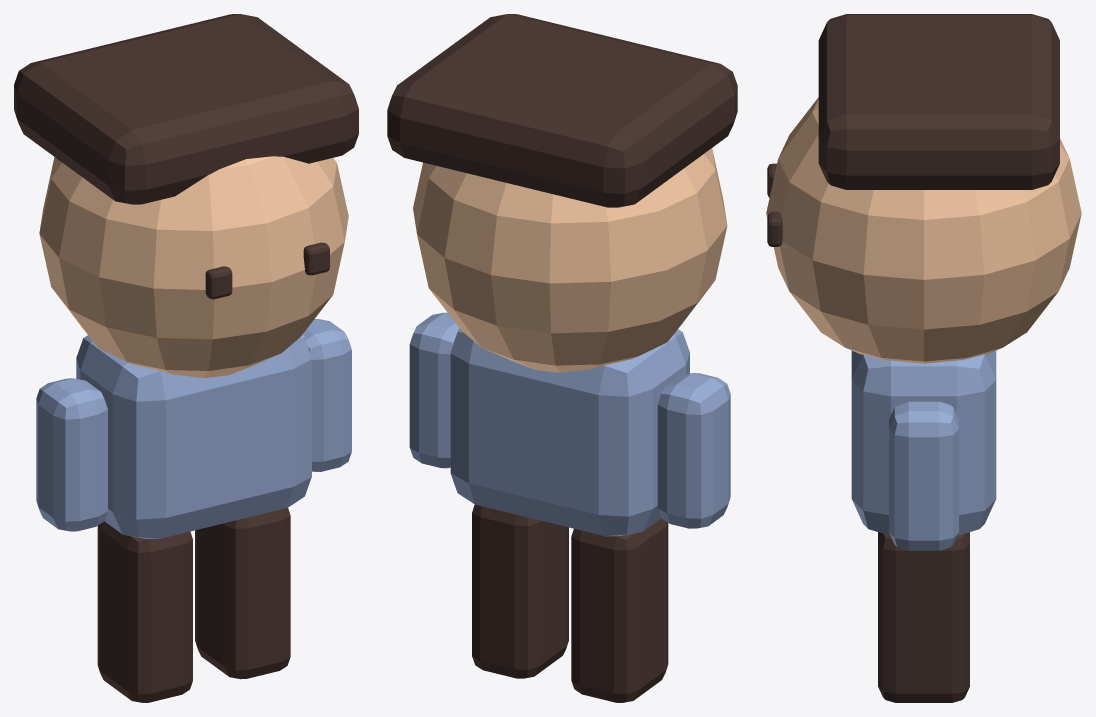
File: kar_warga_bayu.fbx
3 views of the same model, side by side, from view 1: azimuth 30°, elevation 25°; view 2: azimuth 150°, elevation 25°; view 3: azimuth 270°, elevation 25° (orthographic).
Parts seen in each view (by area): view 1: kar_warga_bayu; view 2: kar_warga_bayu; view 3: kar_warga_bayu.
Part boxes in pixels (x1,y1,x2,y2): kar_warga_bayu: (14, 14, 358, 702); kar_warga_bayu: (387, 14, 737, 702); kar_warga_bayu: (766, 14, 1081, 702).
Size of the model in its own units: 79 by 152 by 72.
Materials: 1 (1 with a texture image).
